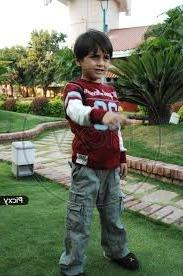Human: (54, 24, 153, 276)
